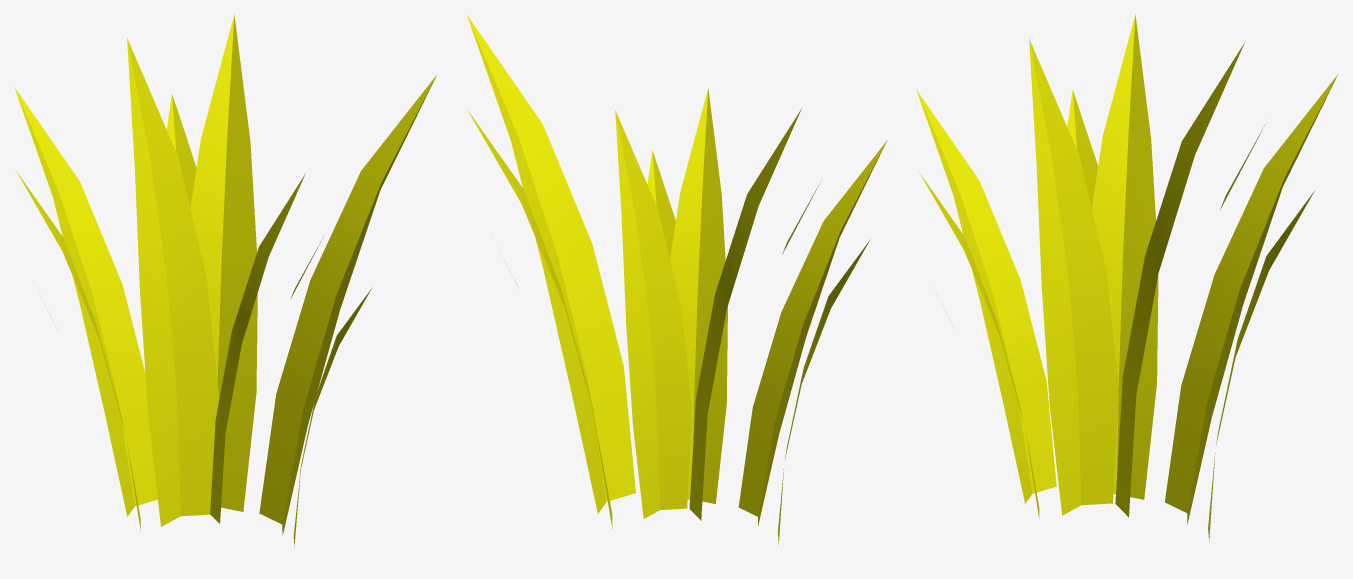
File: kaykit-grass-2-c-singlesided-color-1.glb
3 renders of one model, left to right at view 1: azimuth 30°, elevation 25°; view 2: azimuth 150°, elevation 25°; view 3: azimuth 270°, elevation 25°, orthographic. The views are drawn at different scales.
Parts seen in each view (by area): view 1: Grass_2_C_Singlesided_Color1; view 2: Grass_2_C_Singlesided_Color1; view 3: Grass_2_C_Singlesided_Color1.
Part boxes in pixels (x1,y1,x2,y2): Grass_2_C_Singlesided_Color1: (14, 15, 436, 546); Grass_2_C_Singlesided_Color1: (467, 15, 887, 544); Grass_2_C_Singlesided_Color1: (916, 14, 1337, 541).
Bounding box in the file's own units: 0.8719 × 0.9336 × 0.7383.
